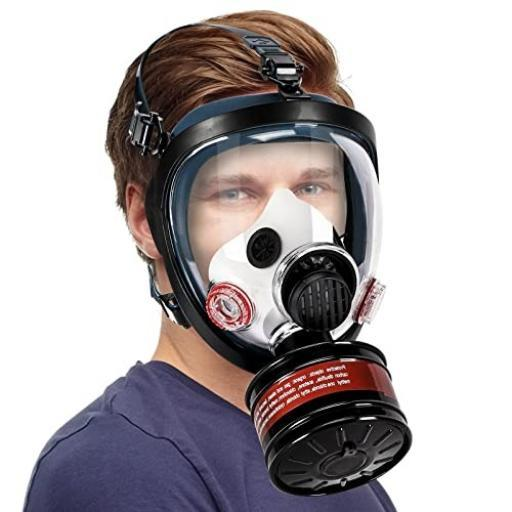mask: (145, 191, 441, 500)
